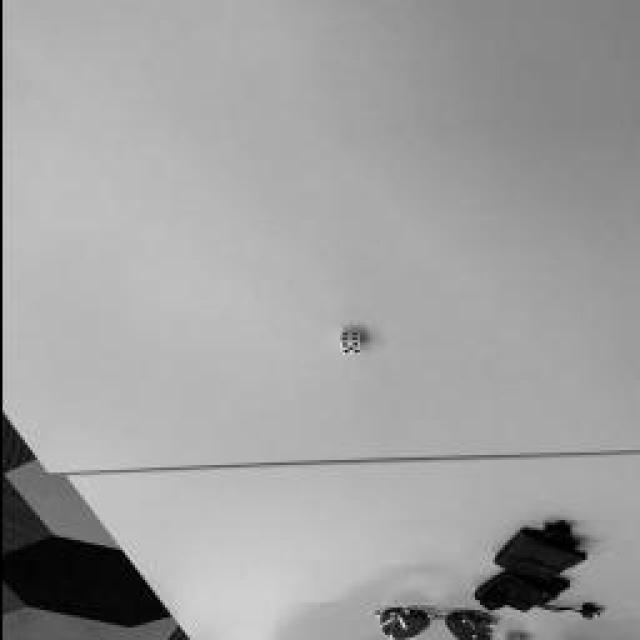dice_5: (338, 341, 360, 354)
